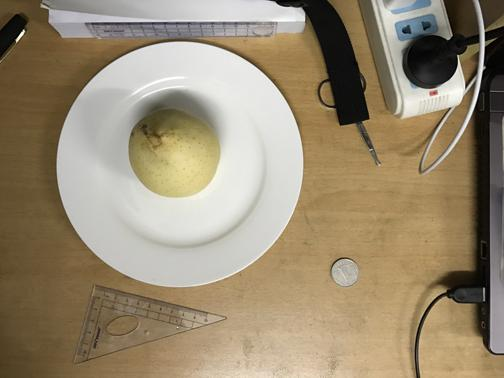coin: (330, 257, 360, 287)
pear: (128, 109, 218, 197)
